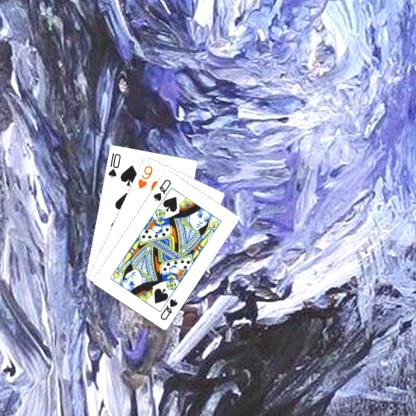10S: (105, 150, 122, 178)
9H: (135, 162, 154, 190)
QS: (150, 176, 173, 203), (157, 296, 179, 322)
